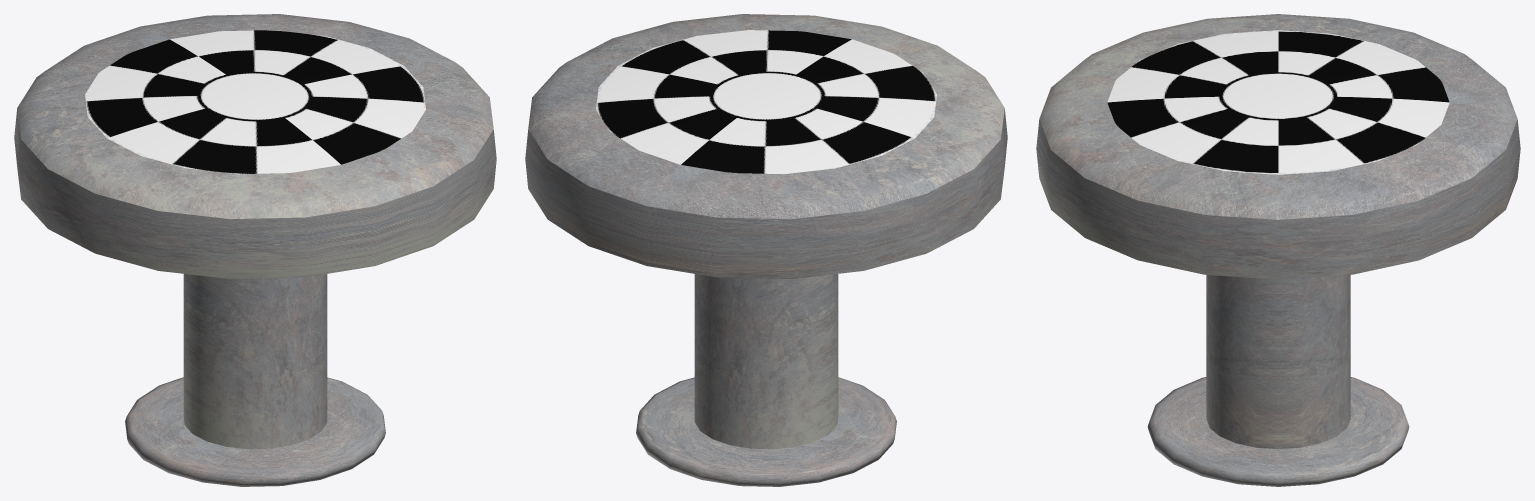
File: mAjedrez.obj
The picture shows the model from 3 angles, left to right: view 1: azimuth 30°, elevation 25°; view 2: azimuth 150°, elevation 25°; view 3: azimuth 270°, elevation 25°; orthographic projection.
Visible parts, largest first — view 1: mesaA:pCylinder2; view 2: mesaA:pCylinder2; view 3: mesaA:pCylinder2.
Part boxes in pixels (x1,y1,x2,y2): mesaA:pCylinder2: (14,14,496,486); mesaA:pCylinder2: (525,14,1007,486); mesaA:pCylinder2: (1036,14,1520,486).
Bounding box in the file's own units: 0.354 × 0.2767 × 0.354.
5 materials, 5 textured.
